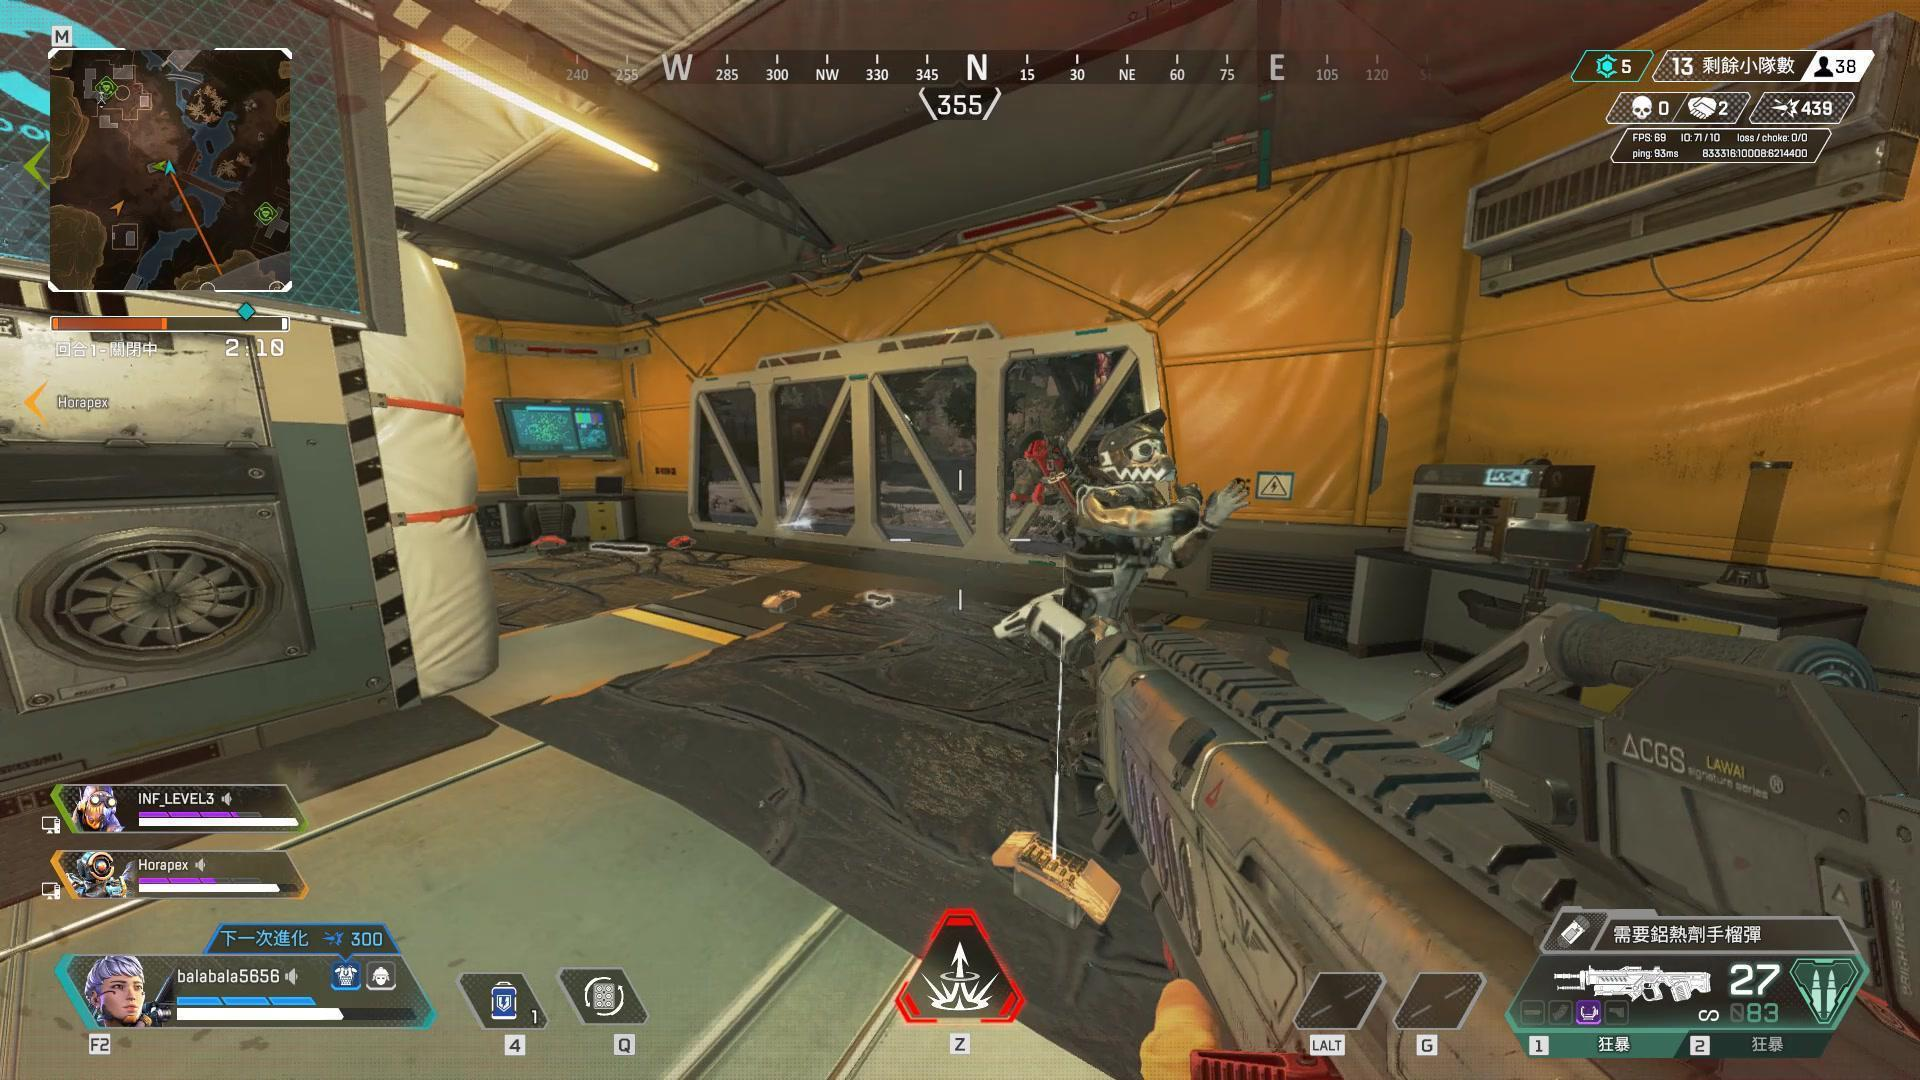avatar: (990, 401, 1256, 673)
